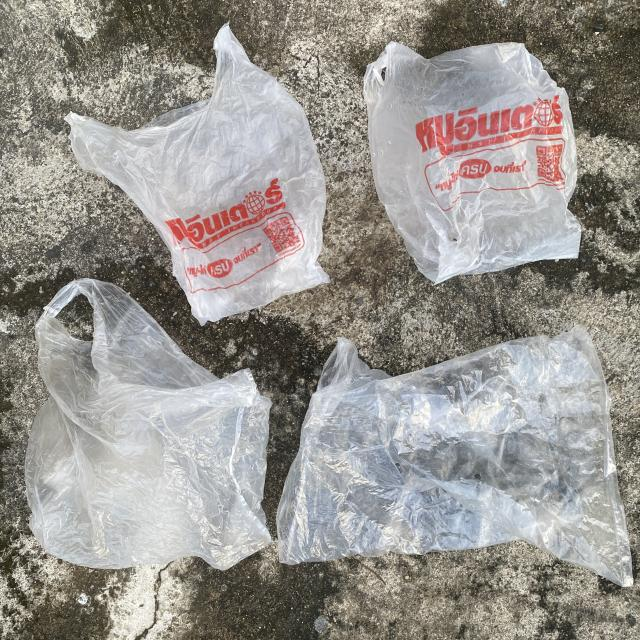Single-layer Plastic: (278, 326, 632, 586), (65, 24, 329, 324), (25, 279, 271, 570), (364, 42, 581, 282)
